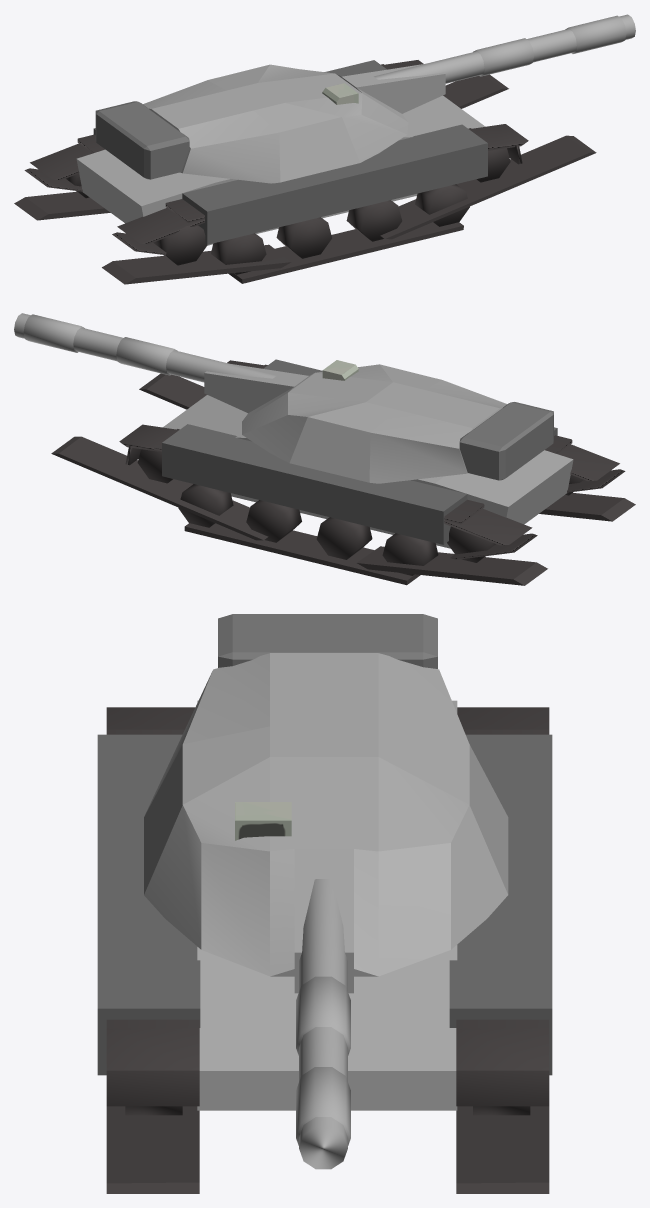
Rendered from TL_ark.glb.
The picture shows the model from 3 angles, top to bottom: view 1: azimuth 30°, elevation 25°; view 2: azimuth 150°, elevation 25°; view 3: azimuth 270°, elevation 25°; orthographic projection. The views are drawn at different scales.
Visible parts, largest first — view 1: Cube.019, Cube.018, Cube, Cube.020, Cube.010, Cube.008, Cube.007, Cylinder, Cube.013, Cylinder.008, Cube.001, Cylinder.010 (+14 smaller); view 2: Cube.019, Cube.017, Cube, Cube.020, Cube.015, Cube.013, Cube.012, Cylinder, Cube.008, Cylinder.006, Cube.002, Cylinder.001 (+14 smaller); view 3: Cube.019, Cube, Cube.018, Cube.017, Cube.020, Cylinder, Cube.010, Cube.015, Cube.011, Cube.016, Cube.005, Cube.006 (+7 smaller).
Boxes of the visible parts, left/top/right/bottom form: Cube.019: left=143, top=64, right=445, bottom=183; Cube.018: left=182, top=124, right=487, bottom=244; Cube: left=76, top=95, right=484, bottom=245; Cube.020: left=95, top=101, right=189, bottom=179; Cube.010: left=380, top=135, right=596, bottom=239; Cube.008: left=102, top=244, right=291, bottom=284; Cube.007: left=228, top=222, right=463, bottom=283; Cylinder: left=374, top=14, right=635, bottom=83; Cube.013: left=14, top=191, right=110, bottom=220; Cylinder.008: left=276, top=217, right=331, bottom=258; Cube.001: left=117, top=208, right=204, bottom=244; Cylinder.010: left=346, top=200, right=402, bottom=241; Cube.019: left=204, top=364, right=507, bottom=483; Cube.017: left=162, top=424, right=467, bottom=544; Cube: left=163, top=395, right=573, bottom=548; Cube.020: left=459, top=402, right=553, bottom=480; Cube.015: left=51, top=436, right=268, bottom=540; Cube.013: left=357, top=546, right=547, bottom=585; Cube.012: left=184, top=523, right=420, bottom=585; Cylinder: left=14, top=313, right=276, bottom=382; Cube.008: left=539, top=493, right=635, bottom=521; Cylinder.006: left=316, top=517, right=372, bottom=559; Cube.002: left=444, top=509, right=532, bottom=545; Cylinder.001: left=246, top=500, right=301, bottom=542; Cube.019: left=144, top=653, right=508, bottom=993; Cube: left=197, top=700, right=457, bottom=1110; Cube.018: left=97, top=734, right=200, bottom=1075; Cube.017: left=449, top=734, right=552, bottom=1075; Cube.020: left=218, top=614, right=437, bottom=668; Cylinder: left=299, top=879, right=347, bottom=1169; Cube.010: left=106, top=1106, right=199, bottom=1193; Cube.015: left=456, top=1106, right=549, bottom=1193; Cube.011: left=106, top=1029, right=199, bottom=1070; Cube.016: left=456, top=1029, right=549, bottom=1070; Cube.005: left=106, top=1070, right=199, bottom=1106; Cube.006: left=456, top=1070, right=549, bottom=1106.
Size of what is drawn, in the model's own units: 14.44 by 3.23 by 5.08.
Materials: 5 (1 with a texture image).
